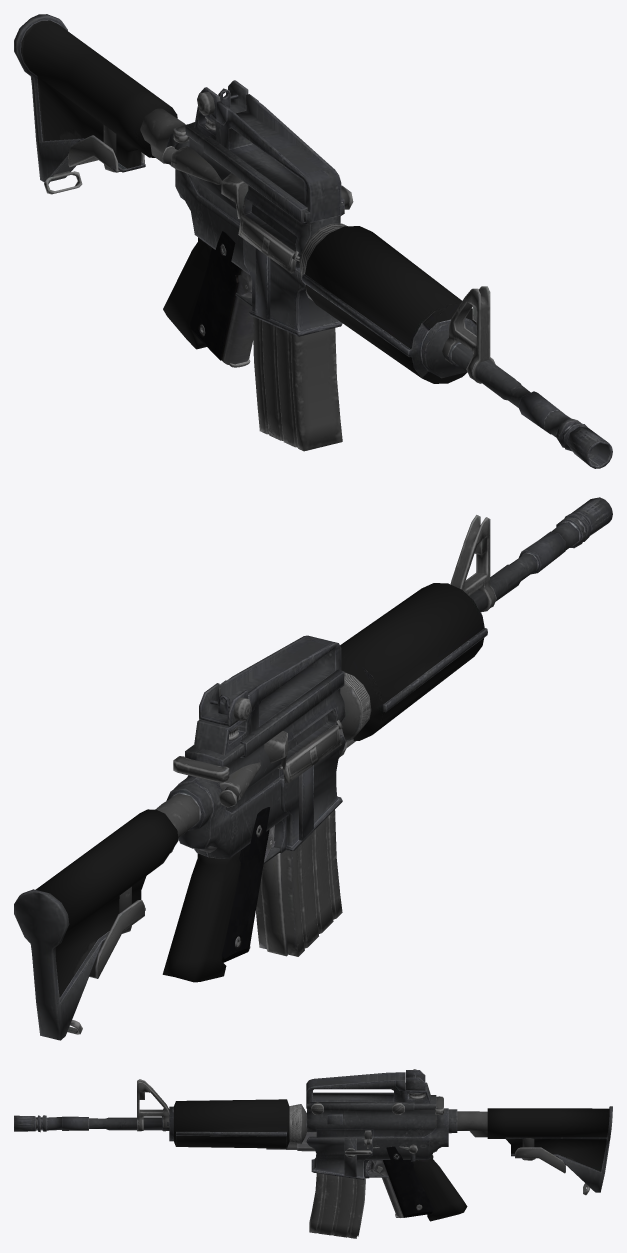
File: gunner_props.glb
3 renders of one model, top to bottom at view 1: azimuth 30°, elevation 25°; view 2: azimuth 150°, elevation 25°; view 3: azimuth 270°, elevation 25°, orthographic. The views are drawn at different scales.
Visible parts, largest first — view 1: Rifle, Pistol; view 2: Rifle, Pistol; view 3: Rifle, Pistol.
Boxes of the visible parts, <box> form: Rifle: <box>14,14,612,468</box>; Pistol: <box>190,231,312,367</box>; Rifle: <box>14,497,612,1040</box>; Pistol: <box>199,729,355,962</box>; Rifle: <box>14,1069,612,1238</box>; Pistol: <box>266,1132,437,1217</box>.
Bounding box in the file's own units: 0.0735 × 0.2474 × 0.84.
2 materials, 2 textured.
